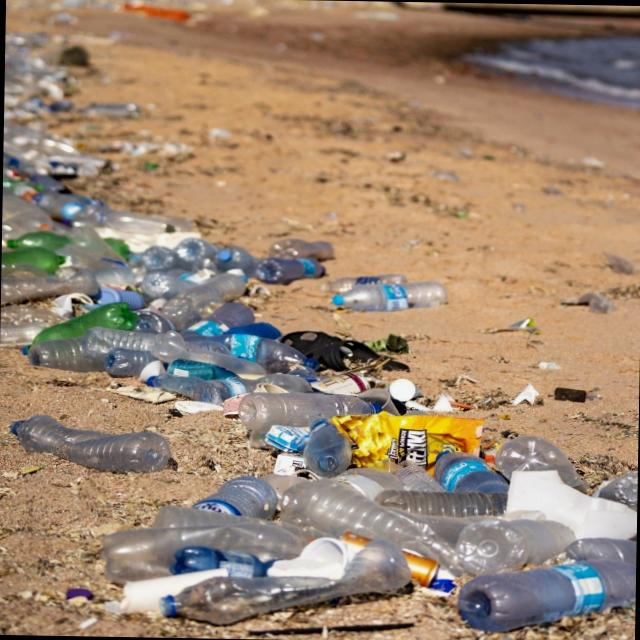garbage: (0, 39, 634, 640)
